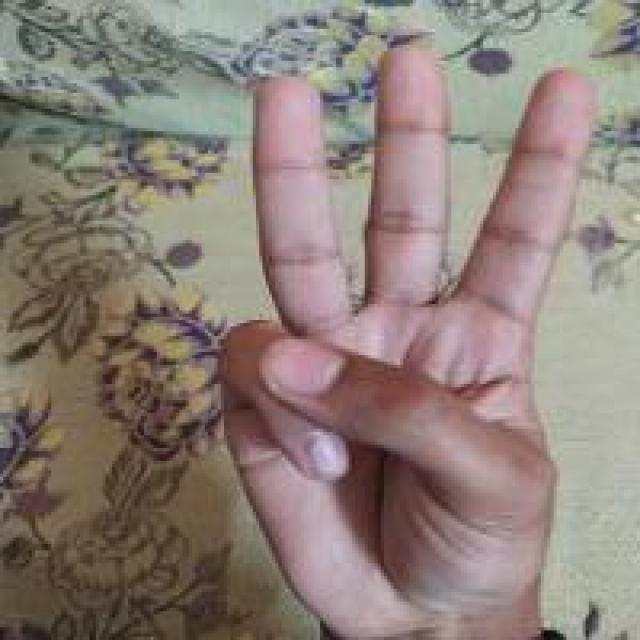W: (206, 45, 600, 614)
